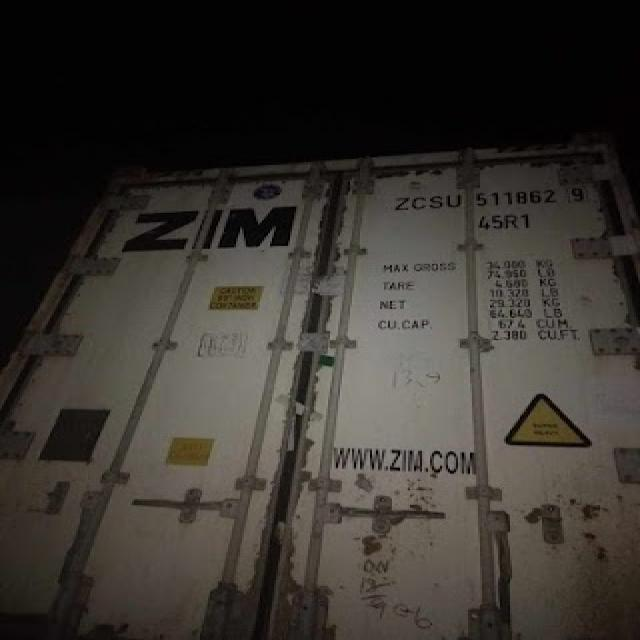ISO: (477, 209, 541, 237)
container_number: (384, 182, 596, 208)
